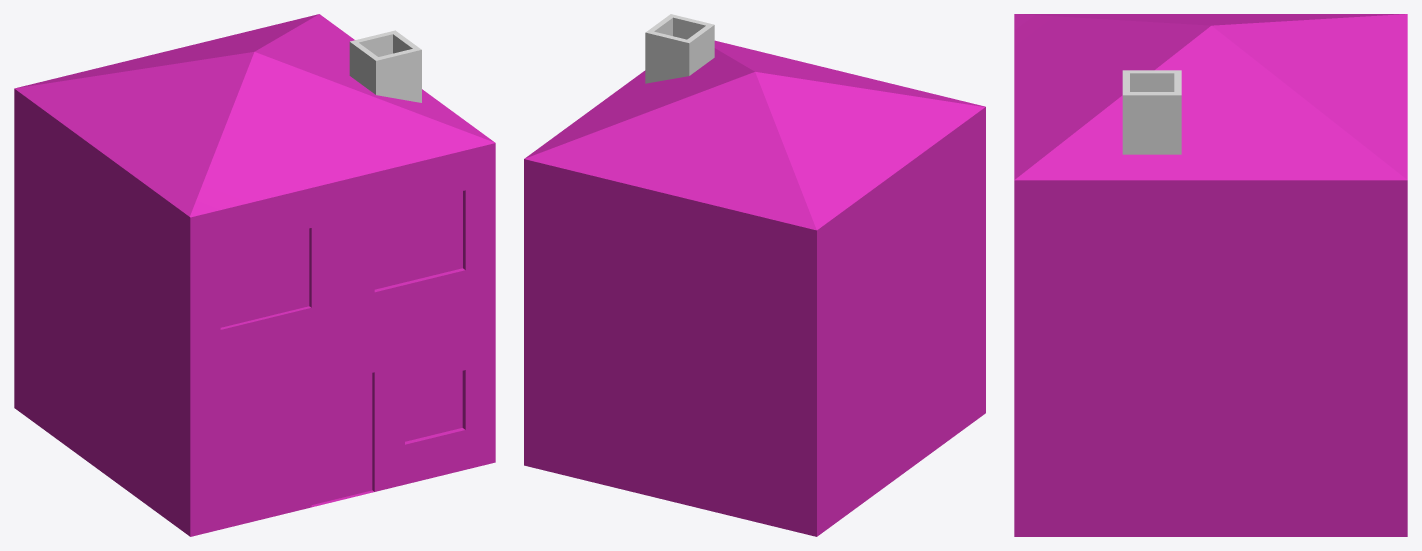
Rendered from house.fbx.
3 renders of one model, left to right at view 1: azimuth 30°, elevation 25°; view 2: azimuth 150°, elevation 25°; view 3: azimuth 270°, elevation 25°, orthographic. The views are drawn at different scales.
Parts seen in each view (by area): view 1: House, Chimney; view 2: House, Chimney; view 3: House, Chimney.
Boxes of the visible parts, x1,y1,x2,y2 form: House: [14, 14, 495, 536]; Chimney: [349, 30, 421, 102]; House: [524, 40, 985, 536]; Chimney: [645, 14, 714, 83]; House: [1014, 14, 1407, 536]; Chimney: [1122, 70, 1181, 154].
Bounding box in the file's own units: 200 × 240 × 200.
